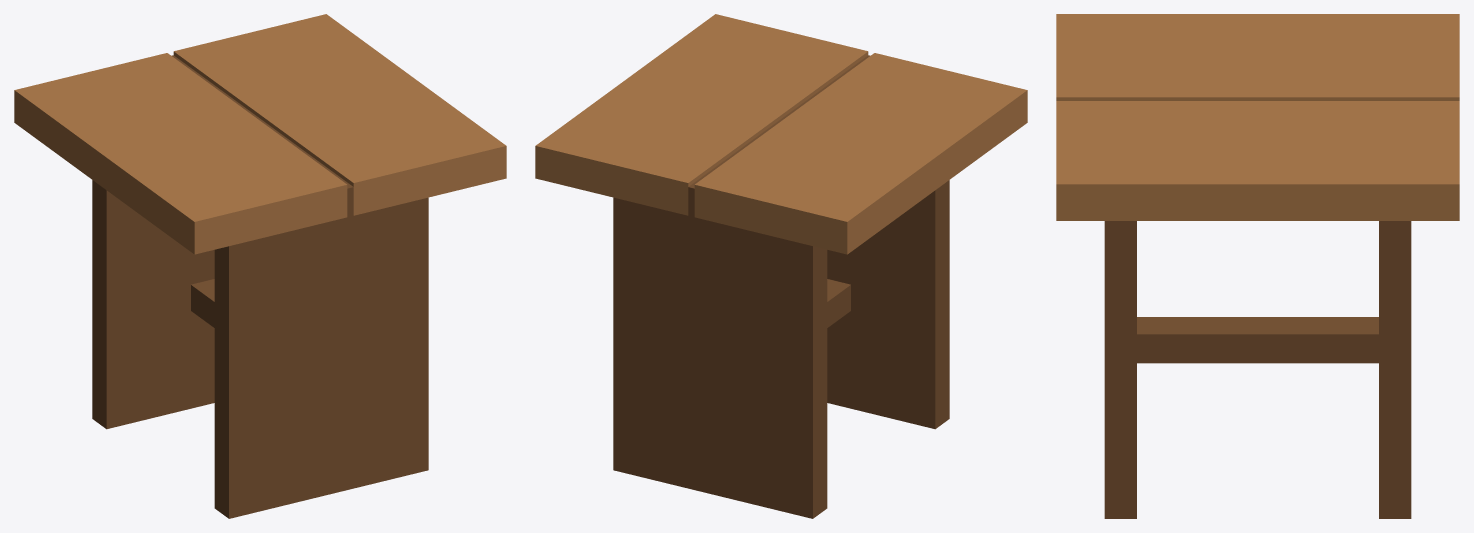
The model's file is kit-bench-low.glb.
3 renders of one model, left to right at view 1: azimuth 30°, elevation 25°; view 2: azimuth 150°, elevation 25°; view 3: azimuth 270°, elevation 25°, orthographic. The views are drawn at different scales.
Parts seen in each view (by area): view 1: bench.001; view 2: bench.001; view 3: bench.001.
Boxes of the visible parts, box(x1,y1,x2,y2) form: bench.001: box(14, 14, 506, 518); bench.001: box(535, 14, 1027, 518); bench.001: box(1056, 14, 1459, 518).
Bounding box in the file's own units: 1 × 1 × 1.
